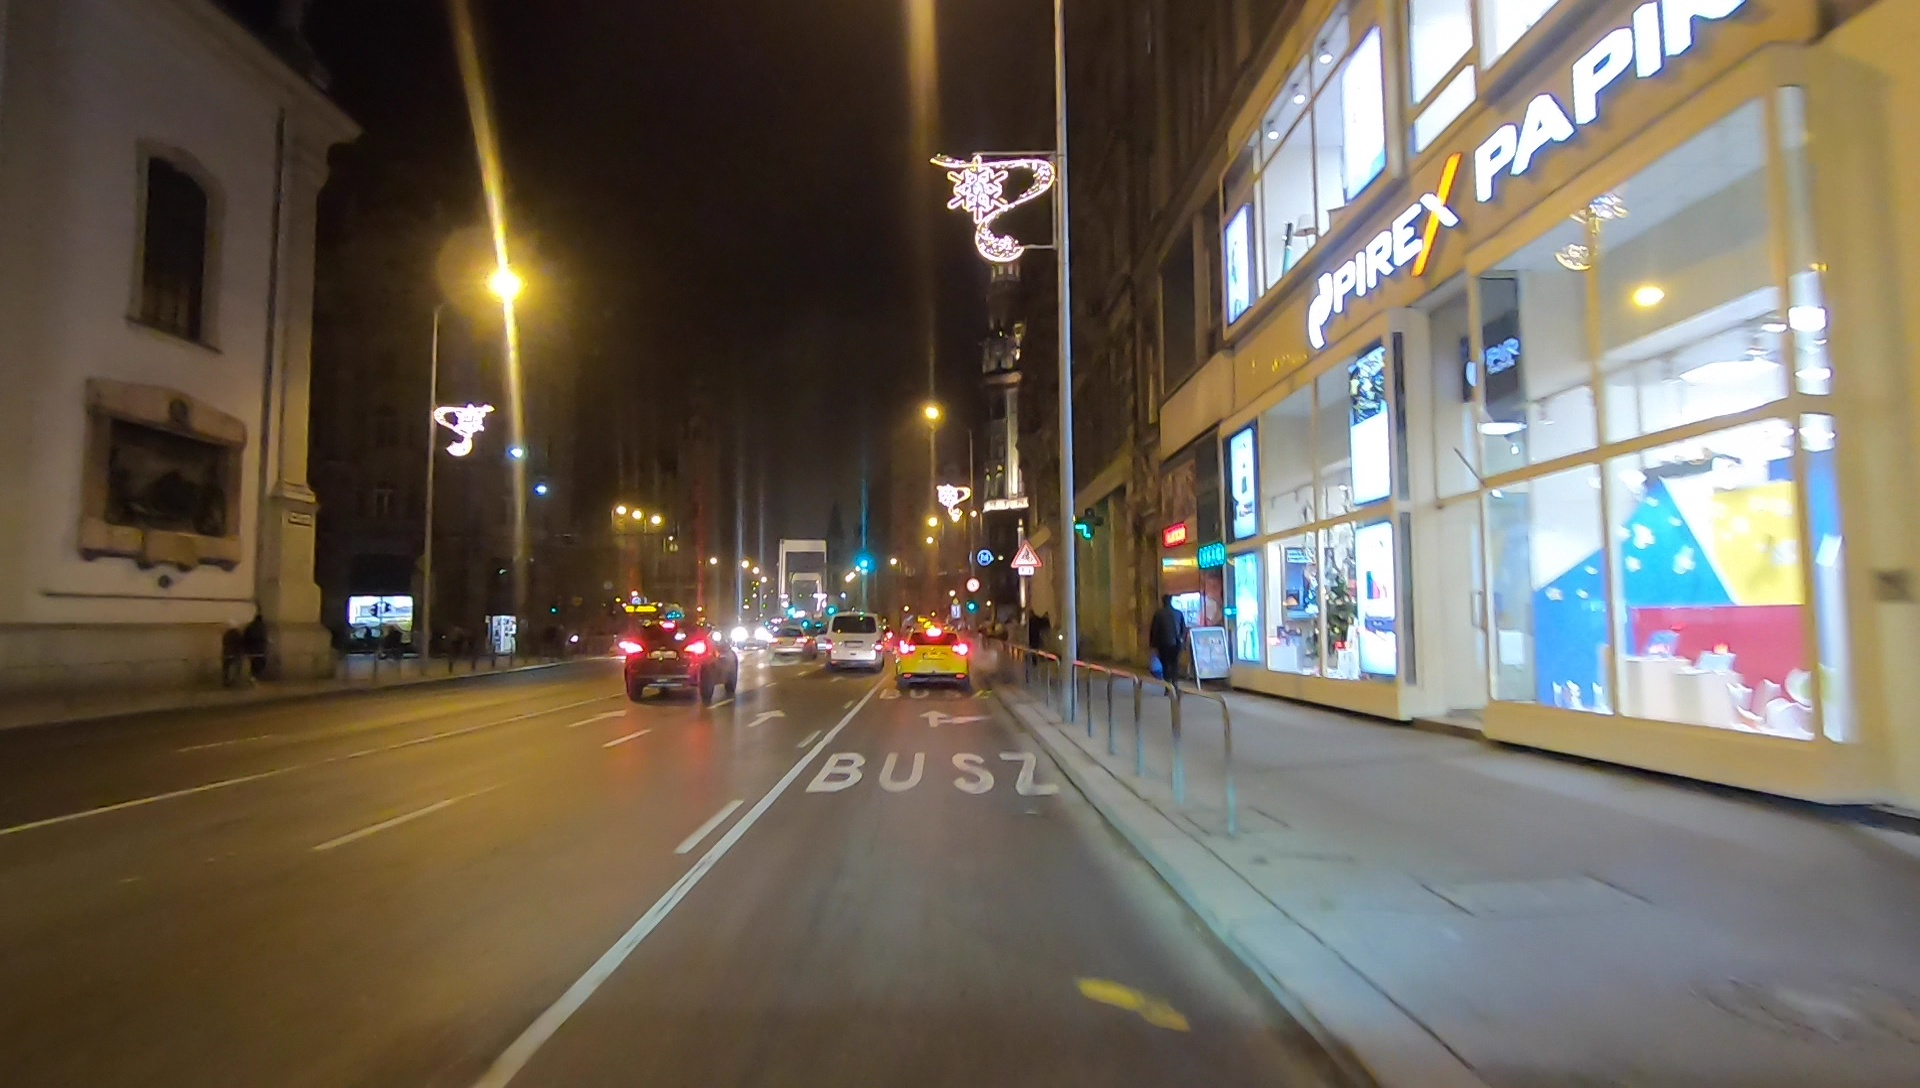person: (1149, 595, 1186, 694), (220, 617, 244, 687), (246, 609, 266, 686), (1023, 609, 1043, 668)
